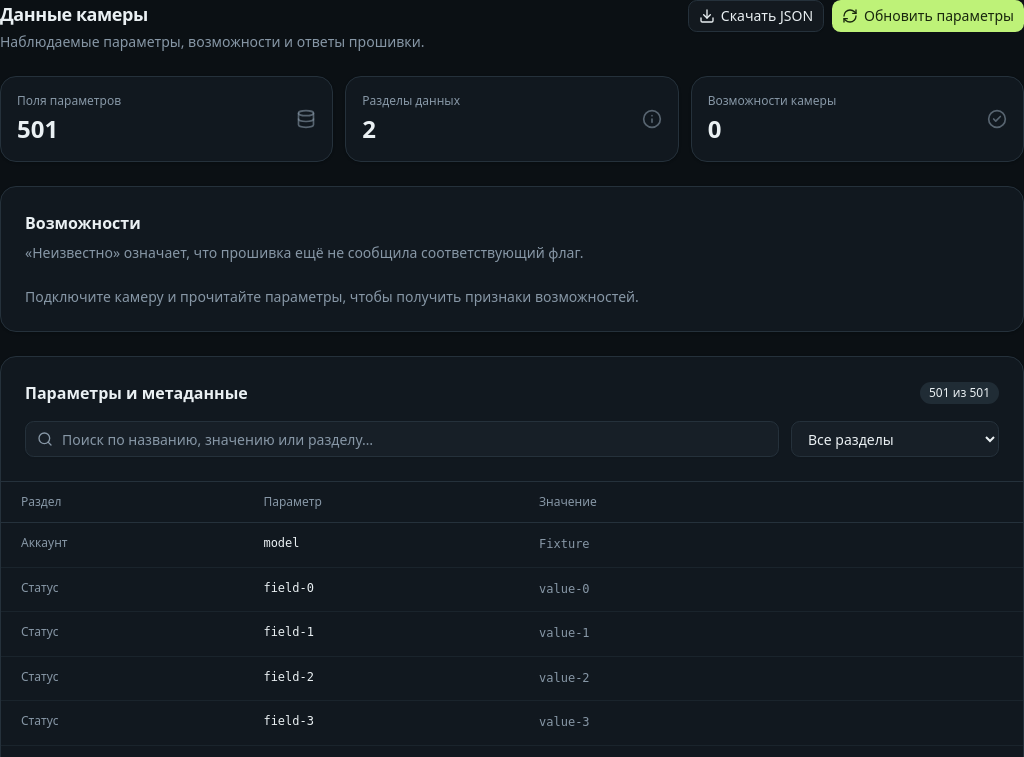
Test: metadata and native services › bounds rendered metadata rows while searching across every field
This screenshot has width=1024, height=757.
Check: the text "value-0" is shown, box x1=519 y1=567 x2=1023 y2=612
Check: the text "value-499" is not shown
Type "value-499" into the field named "Поиск по метаданным" at (402,439), box x1=25 y1=421 x2=779 y2=457
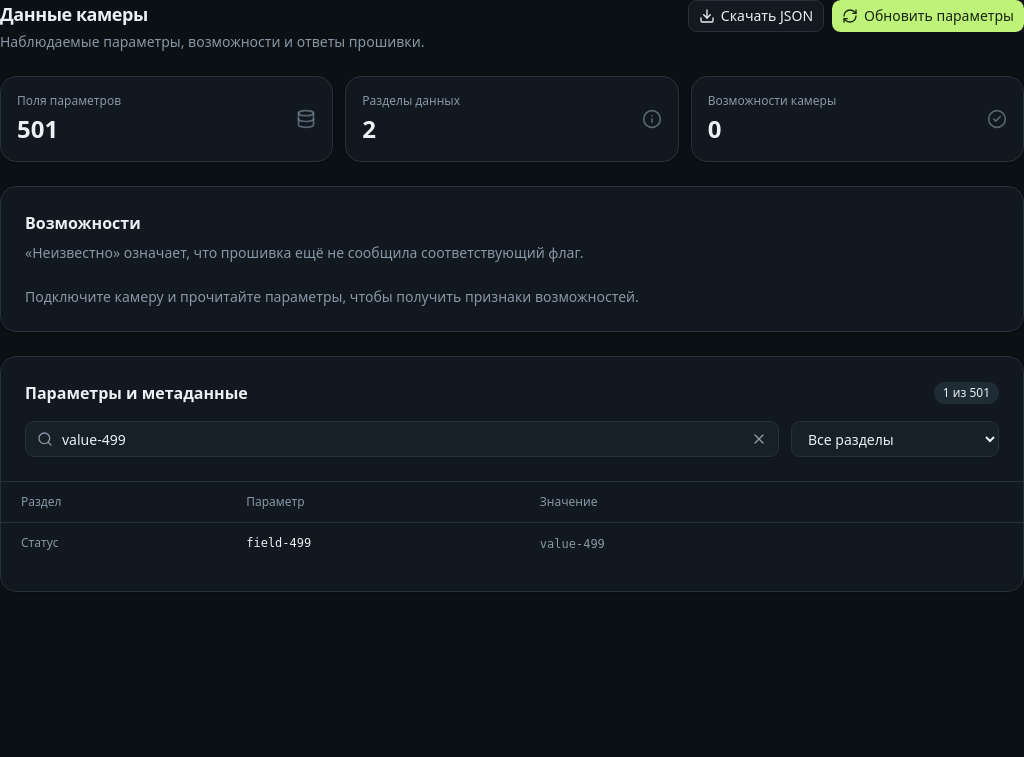
Check: the number of rows is 2, box x1=1 y1=482 x2=1023 y2=522; x1=1 y1=522 x2=1023 y2=566
Check: the text "value-499" is shown, box x1=520 y1=522 x2=1023 y2=566
